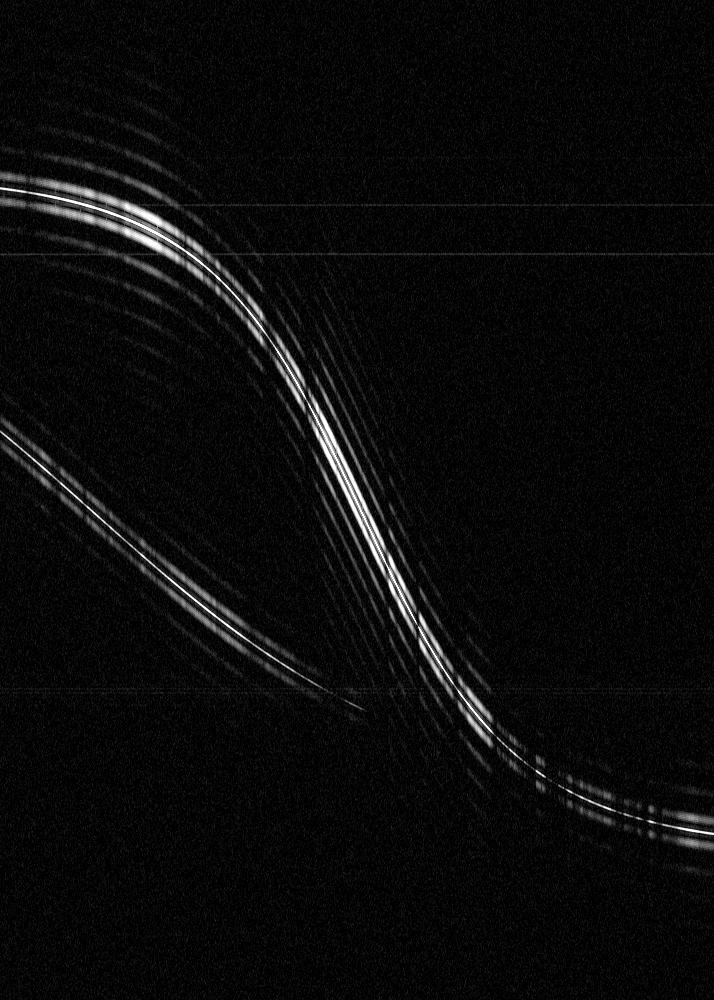signal: (0, 0, 713, 999)
